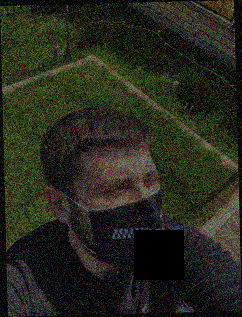with_mask: (83, 160, 165, 273)
